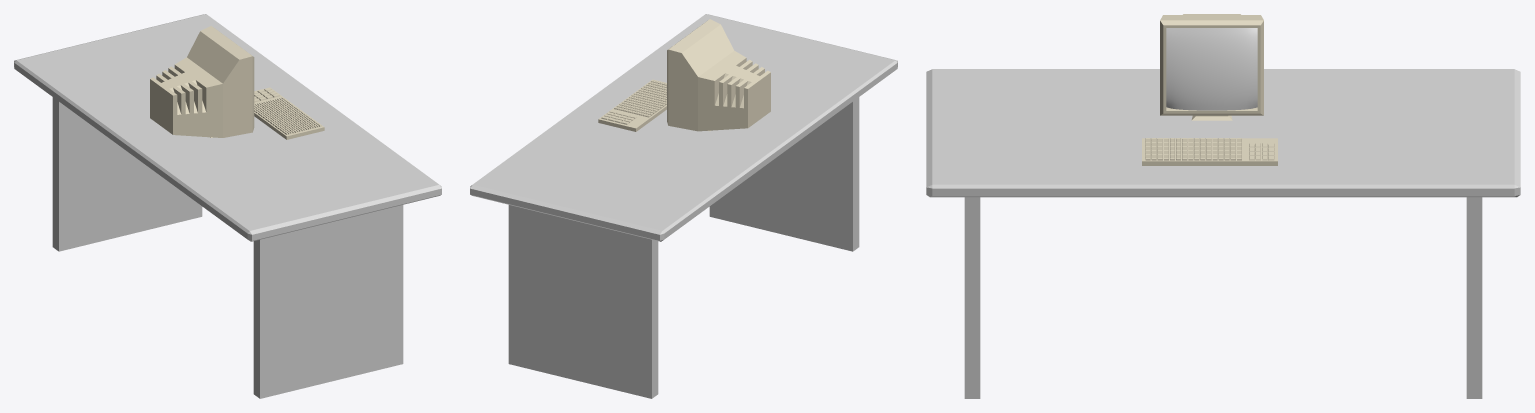
The model's file is Desk.glb.
3 views of the same model, side by side, from view 1: azimuth 30°, elevation 25°; view 2: azimuth 150°, elevation 25°; view 3: azimuth 270°, elevation 25° (orthographic). The views are drawn at different scales.
Parts seen in each view (by area): view 1: Plane; view 2: Plane; view 3: Plane.
Part boxes in pixels (left/top/right/bottom): Plane: left=14, top=14, right=441, bottom=398; Plane: left=470, top=14, right=897, bottom=398; Plane: left=926, top=14, right=1520, bottom=398.
Size of the model in its own units: 2 by 2.64 by 4.26.
